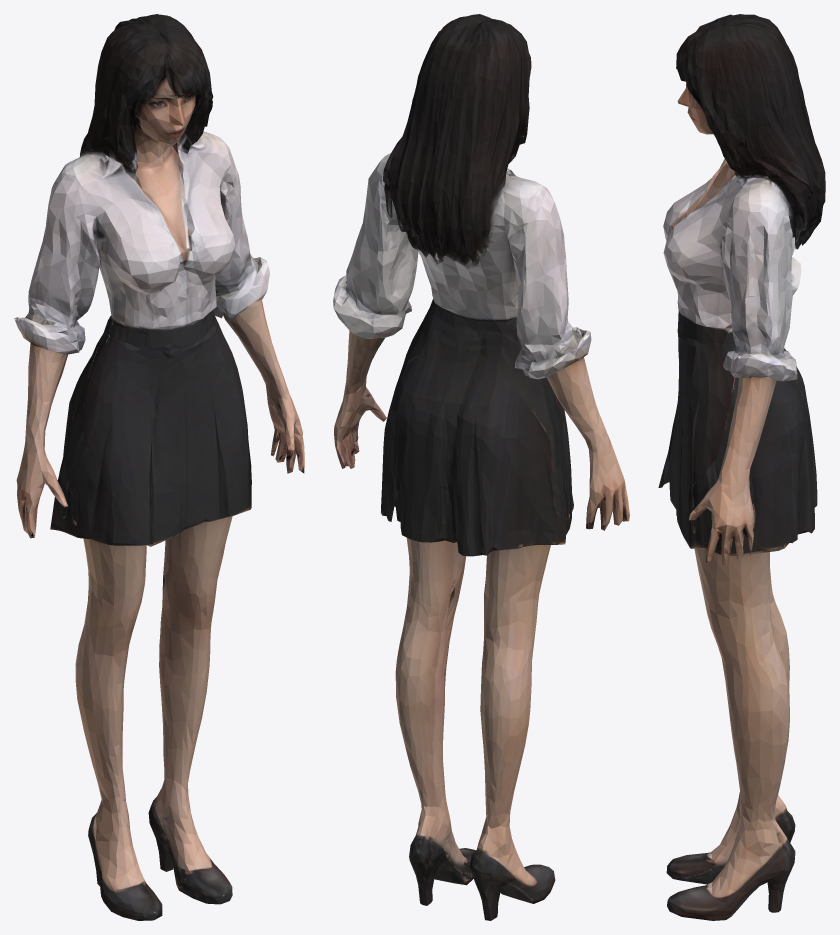
File: Fallen_lady_comic_wom_0419051818_texture.fbx
3 renders of one model, left to right at view 1: azimuth 30°, elevation 25°; view 2: azimuth 150°, elevation 25°; view 3: azimuth 270°, elevation 25°, orthographic.
Parts seen in each view (by area): view 1: temp; view 2: temp; view 3: temp.
Boxes of the visible parts, x1=… form: temp: x1=14, y1=14, x2=304, y2=920; temp: x1=333, y1=14, x2=629, y2=920; temp: x1=658, y1=14, x2=825, y2=920.
Size of the model in its own units: 67.28 by 200 by 34.62.
1 material, 1 textured.
